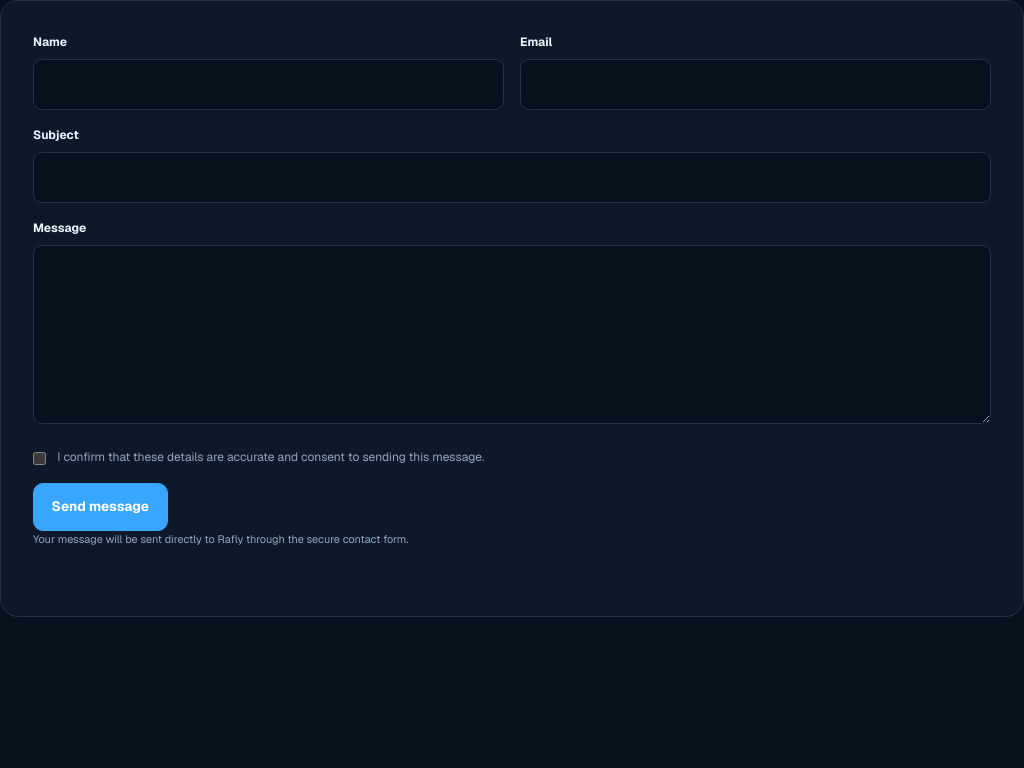
Test case: ContactForm › submits to the API, reports success, and resets fields
In the field labelled "Name": point(268, 84) [33, 59, 504, 110], type "Test Visitor"
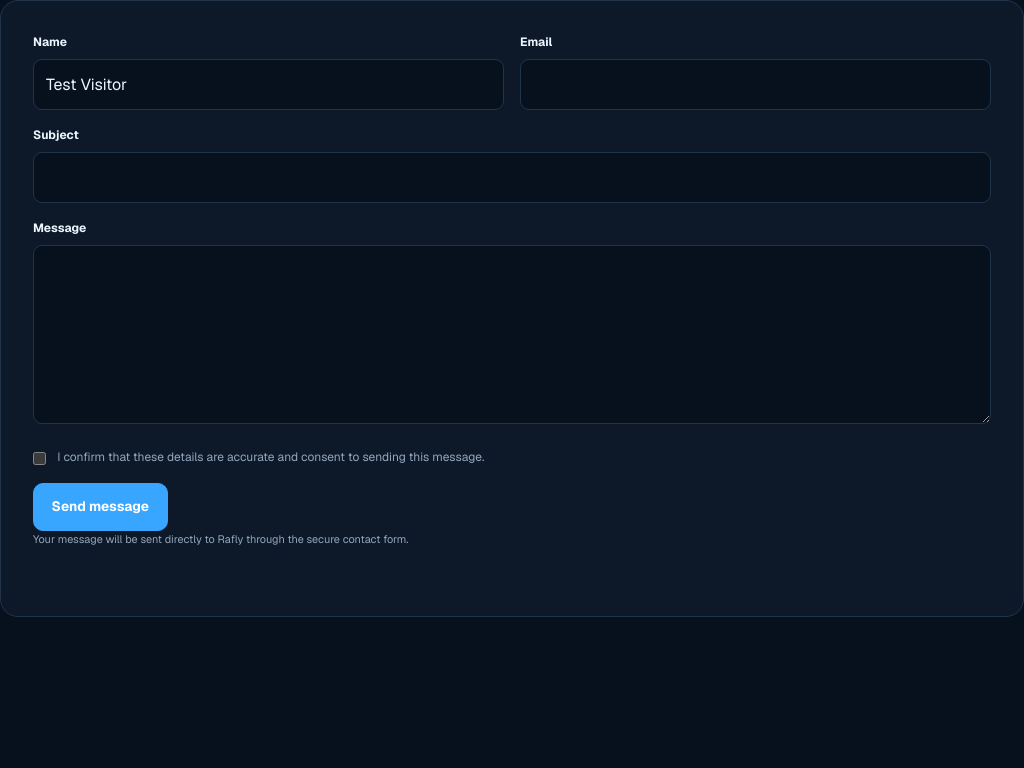
In the field labelled "Email": point(756, 84) [520, 59, 991, 110], type "visitor@example.com"
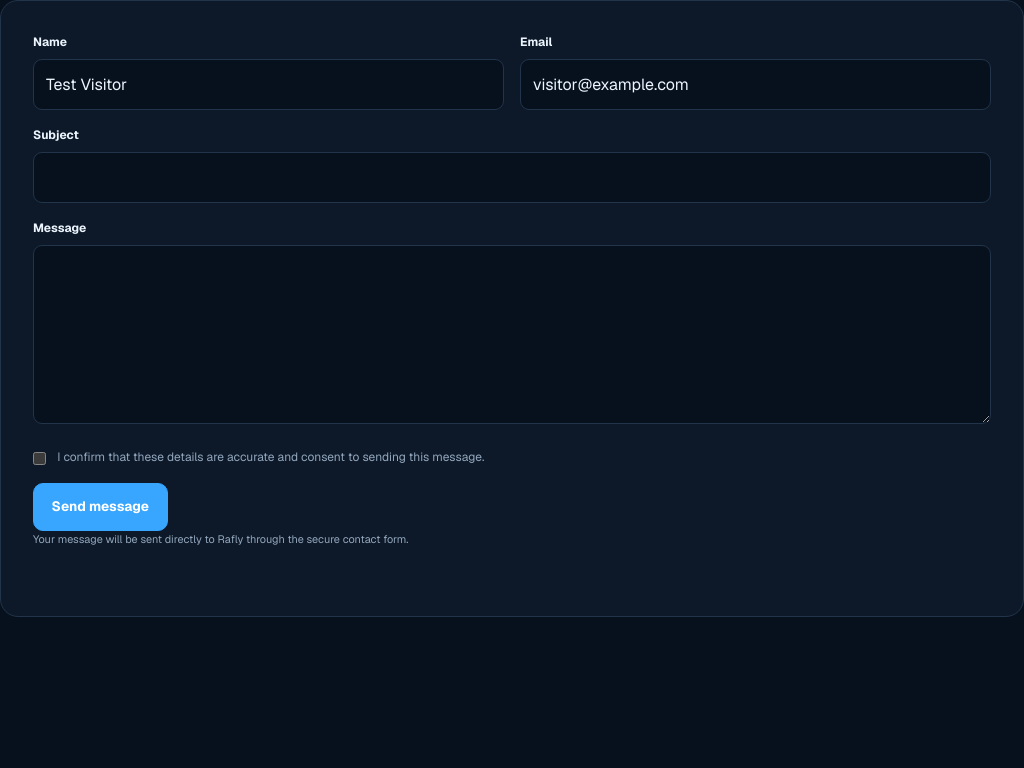
In the field labelled "Subject": point(512, 178) [33, 152, 991, 203], type "Project discussion"
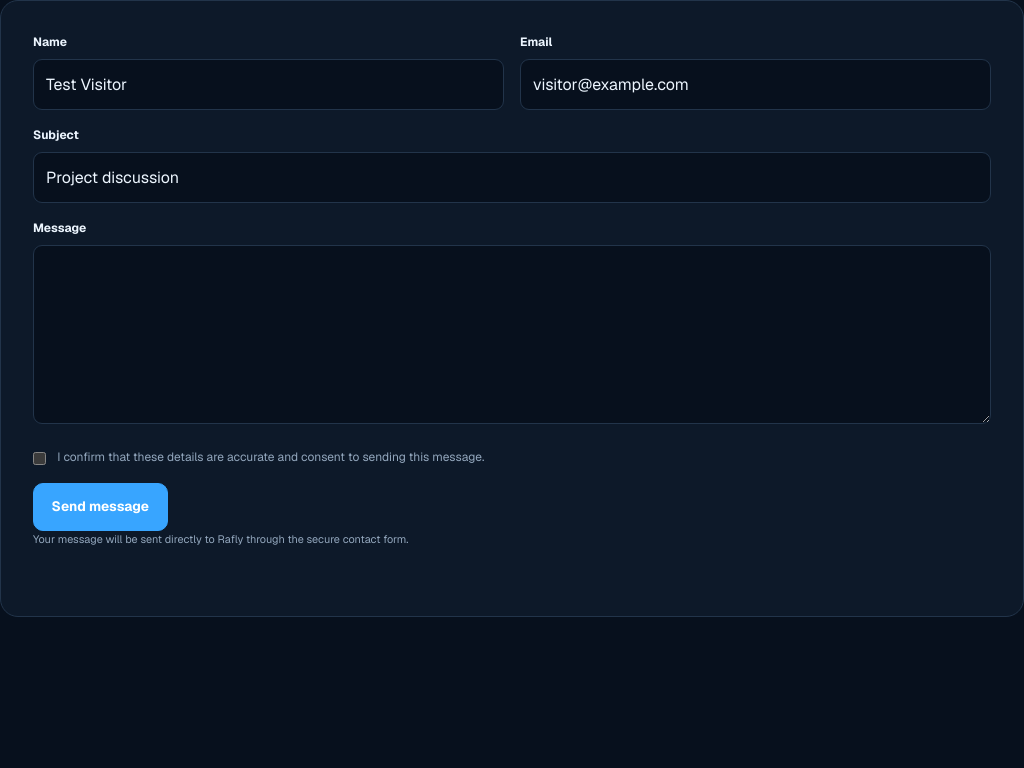
In the text box labelled "Message": point(512, 335) [33, 245, 991, 424], type "I would like to discuss a technology project with you."
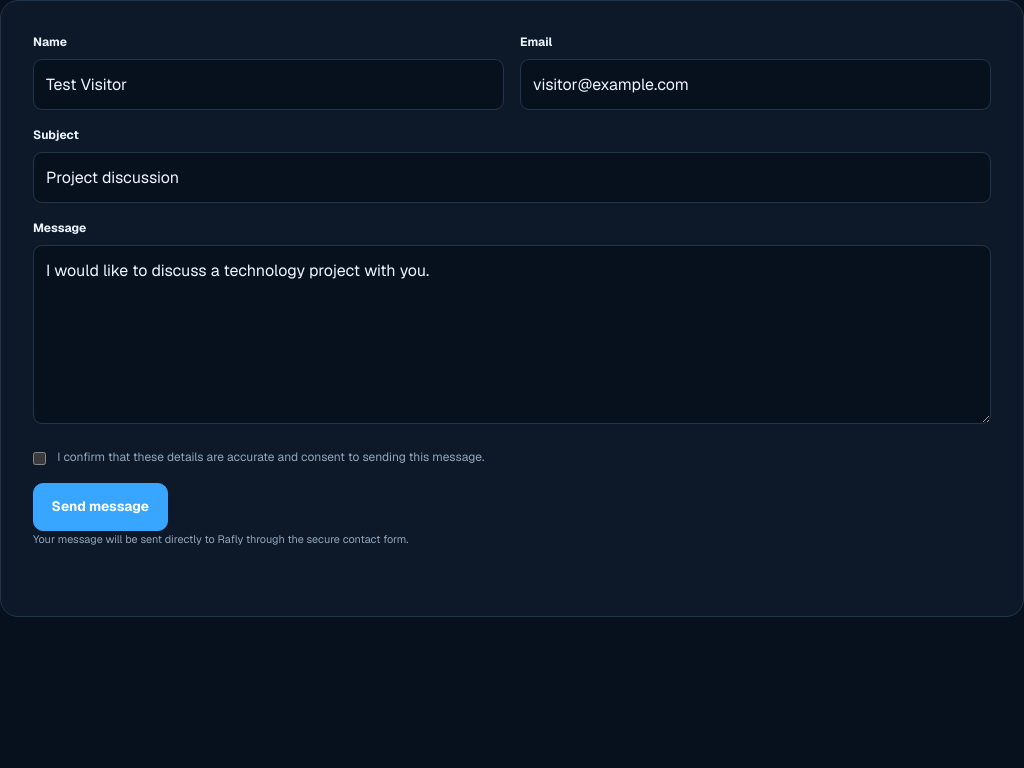
Click the checkbox: point(40, 459) [33, 452, 46, 465]
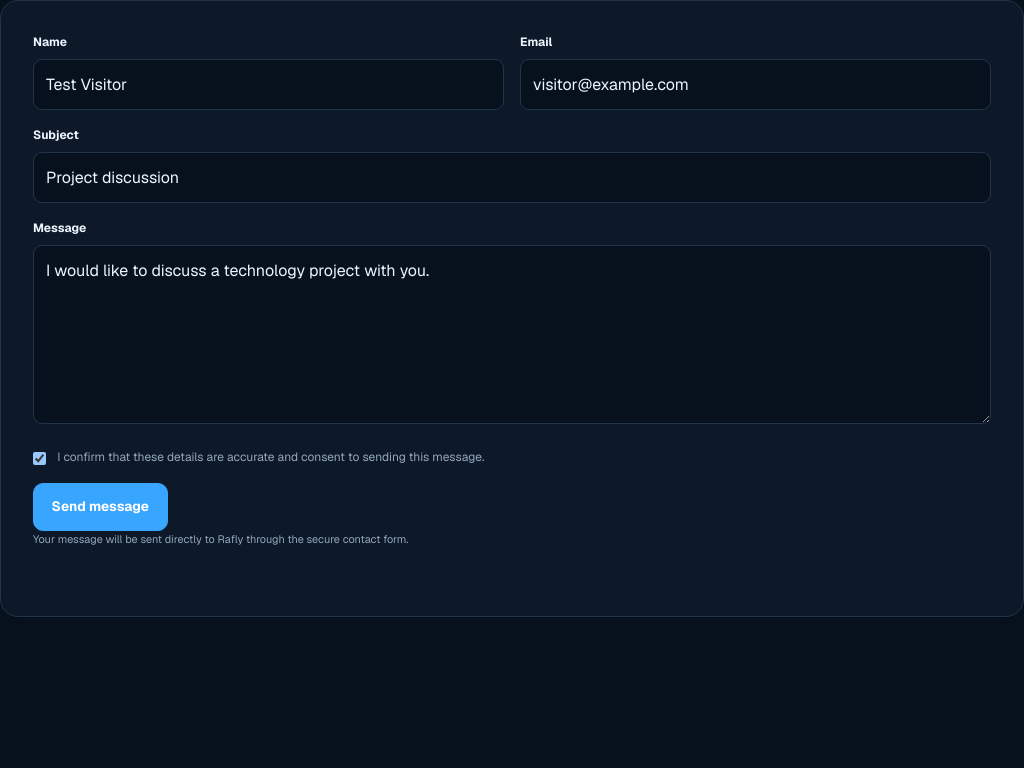
Click the button "Send message": point(100, 507) [33, 483, 168, 531]
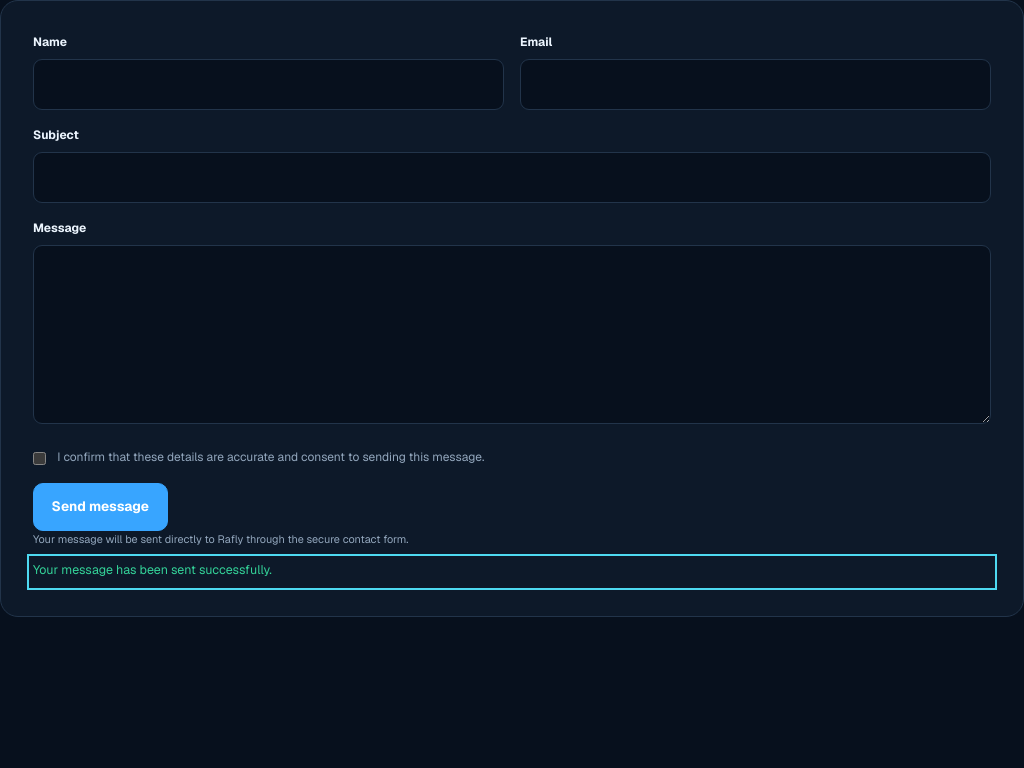
Expected: the checkbox is not checked, [33, 452, 46, 465]
Expected: the text "Your message has been sent successfully." is shown, [33, 561, 272, 578]
Expected: the field labelled "Name" is empty, [33, 59, 504, 110]
